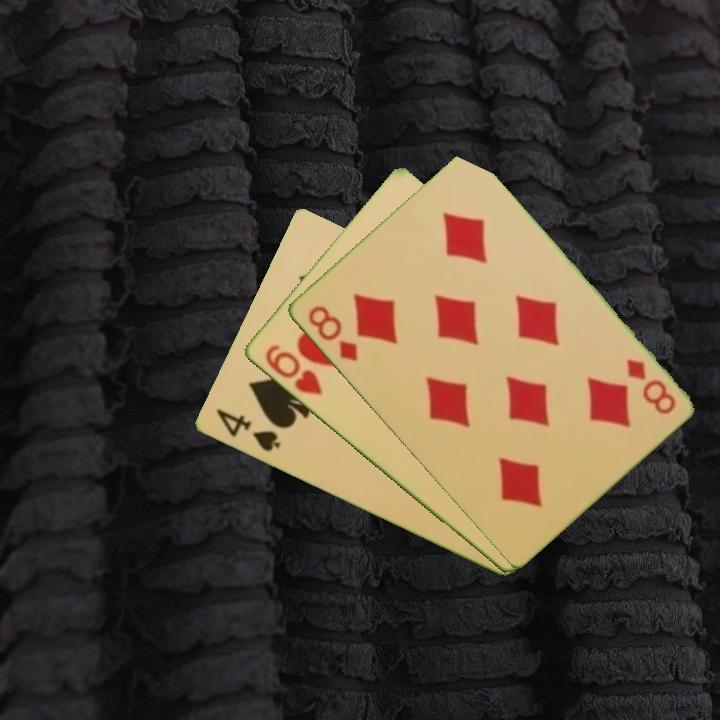4s: (212, 405, 283, 455)
6h: (261, 341, 325, 399)
8d: (303, 302, 361, 365), (622, 355, 678, 418)
